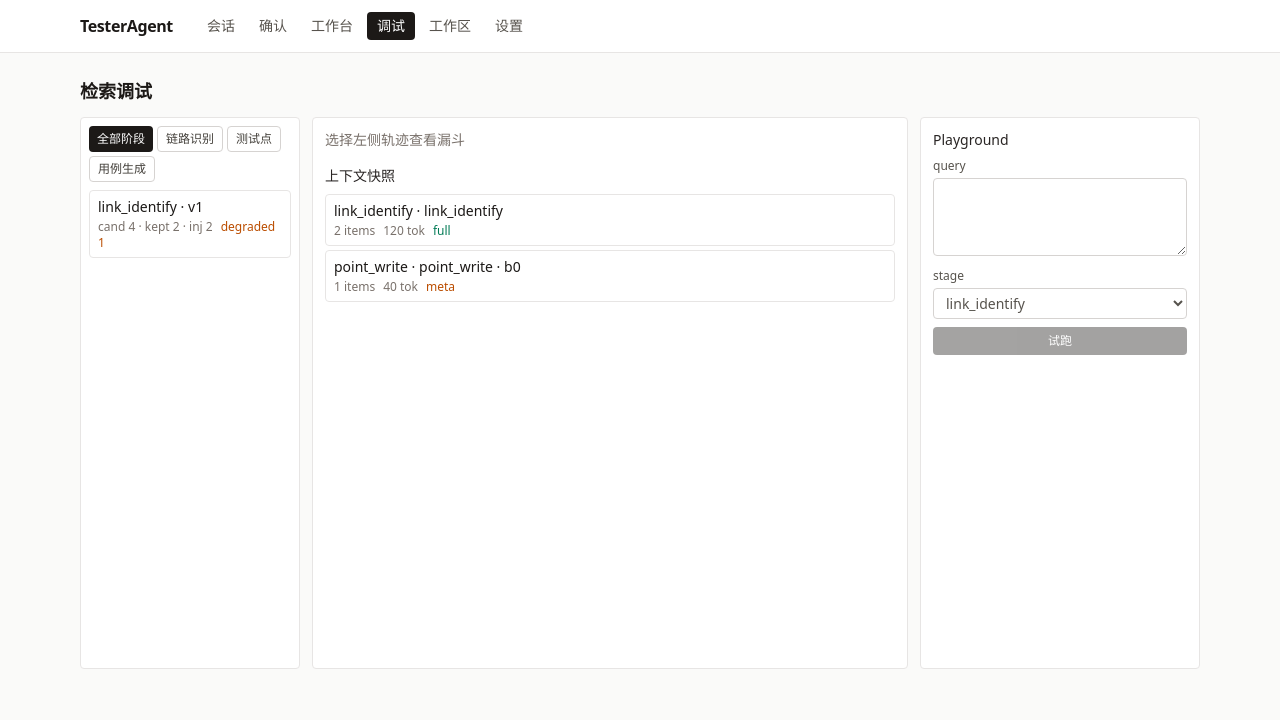
Test: WP-F4 RetrievalDebugPage › 选中 trace 后漏斗四段计数与 candidates drop_reason 可见
Click the button with test id "trace-item-trace-1".
click(190, 224)  # box [89,190,291,258]
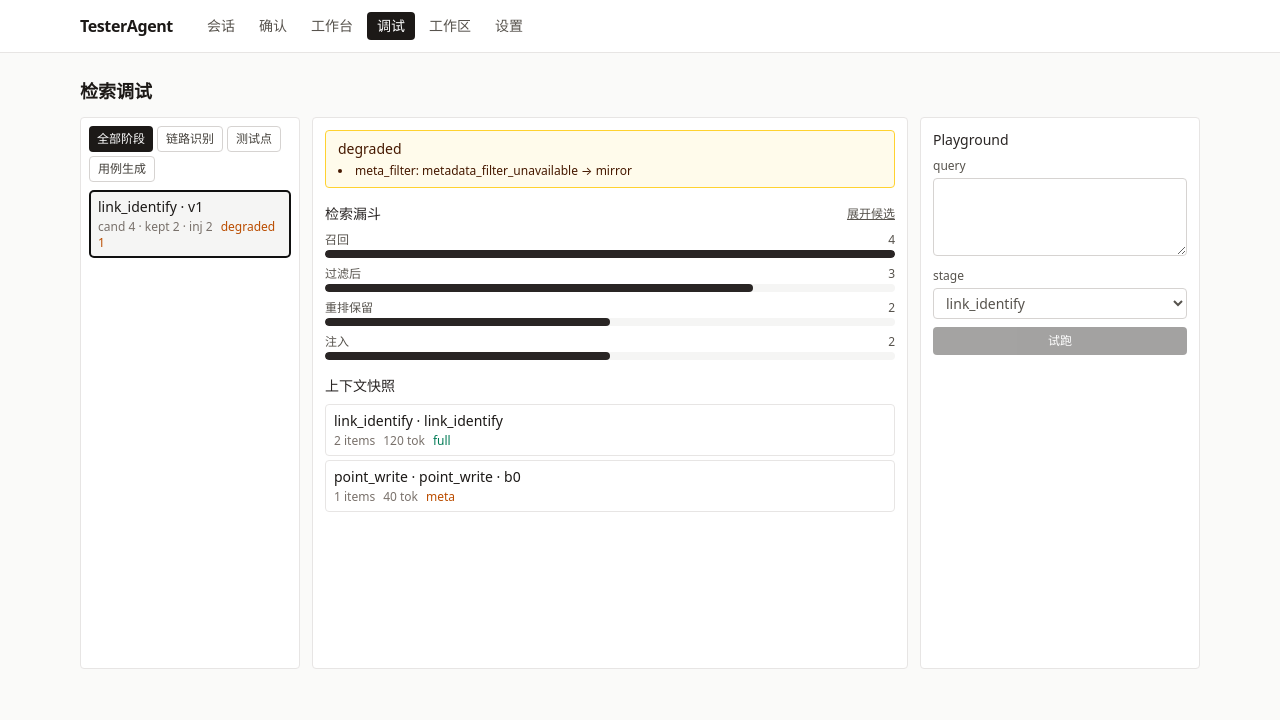
Now the text with test id "funnel-recall" reads "4", box [888,231,895,248]
Now the text with test id "funnel-filter" reads "3", box [888,265,895,282]
Now the text with test id "funnel-rerank" reads "2", box [888,299,895,316]
Click the button with test id "funnel-expand".
click(871, 214)  # box [847,206,895,222]
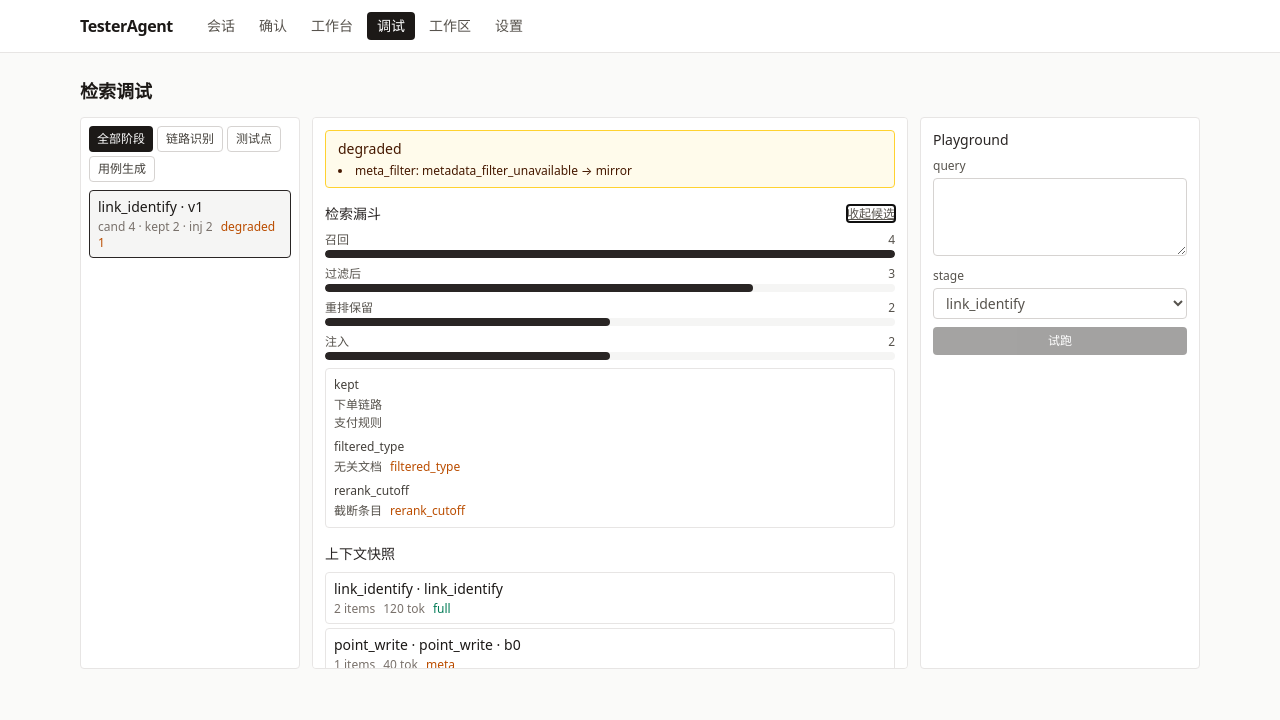
Now the list item "无关文档" is shown, box [334,458,382,475]
Now the 1st text "filtered_type" is shown, box [334,438,404,455]
